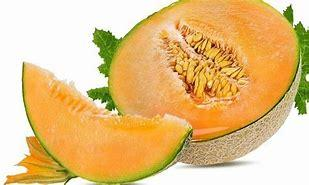Melon Ripe: (108, 0, 303, 163), (22, 60, 193, 185)
